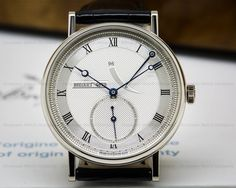clock: (47, 29, 185, 161)
